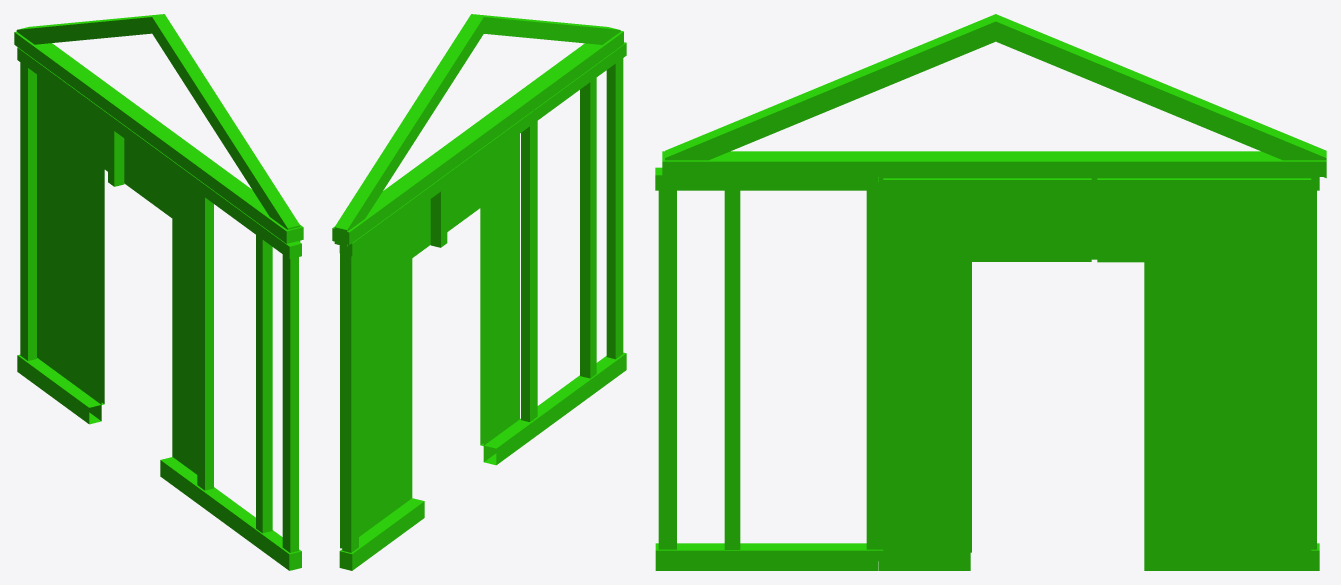
Rendered from HT_01_Wall_02.fbx.
The picture shows the model from 3 angles, left to right: view 1: azimuth 30°, elevation 25°; view 2: azimuth 150°, elevation 25°; view 3: azimuth 270°, elevation 25°; orthographic projection. The views are drawn at different scales.
Parts seen in each view (by area): view 1: HT_01_Wall_02; view 2: HT_01_Wall_02; view 3: HT_01_Wall_02.
Part boxes in pixels (box(x1,y1,x2,y2)): HT_01_Wall_02: box(14, 14, 303, 570); HT_01_Wall_02: box(332, 14, 626, 570); HT_01_Wall_02: box(655, 14, 1326, 570).
Size of the model in its own units: 16.36 by 414 by 457.
